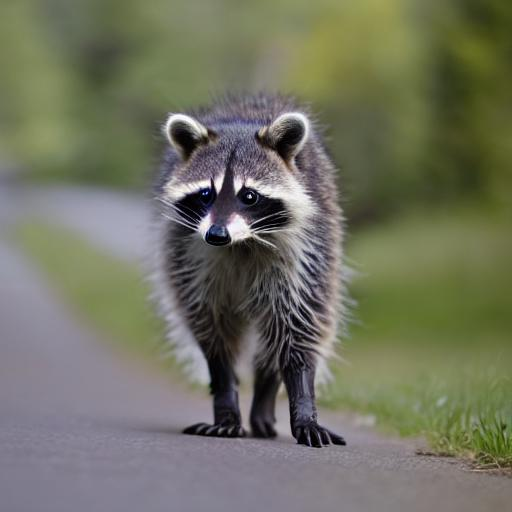raccoon: (146, 92, 355, 367)
